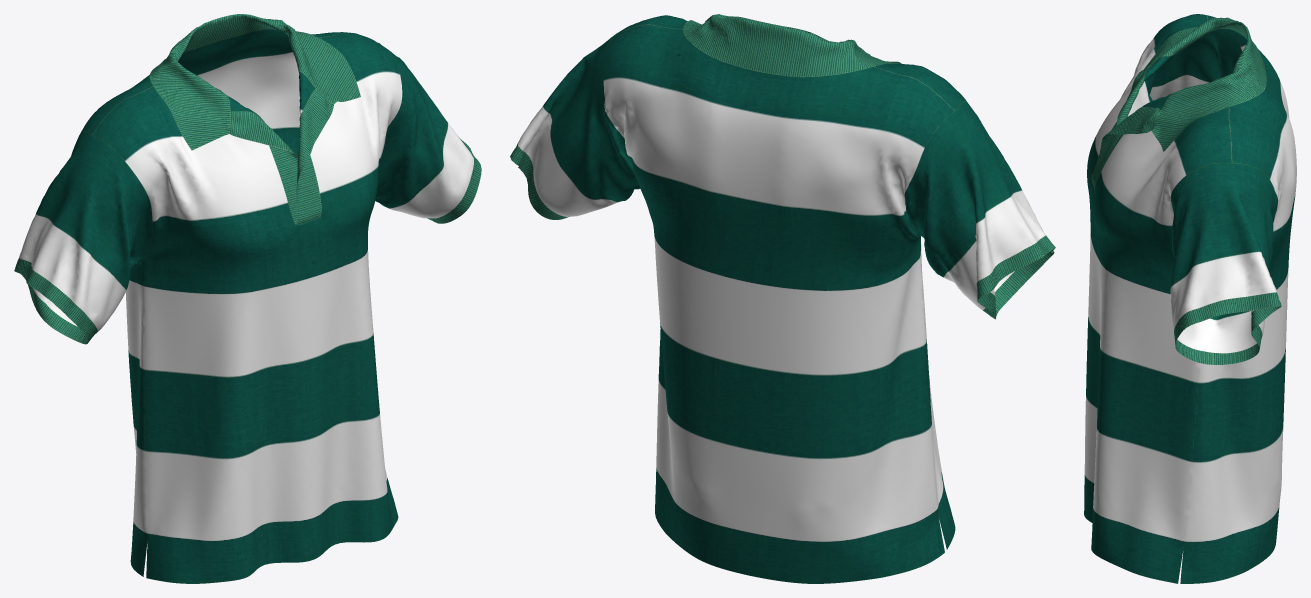
File: Tshirt2.glb
The picture shows the model from 3 angles, left to right: view 1: azimuth 30°, elevation 25°; view 2: azimuth 150°, elevation 25°; view 3: azimuth 270°, elevation 25°; orthographic projection. The views are drawn at different scales.
Visible parts, largest first — view 1: Tshirt; view 2: Tshirt; view 3: Tshirt.
Part boxes in pixels (x1,y1,x2,y2): Tshirt: (14, 14, 481, 583); Tshirt: (510, 14, 1055, 583); Tshirt: (1084, 14, 1296, 583).
Bounding box in the file's own units: 0.6777 × 0.7129 × 0.2765.
1 material, 1 textured.
